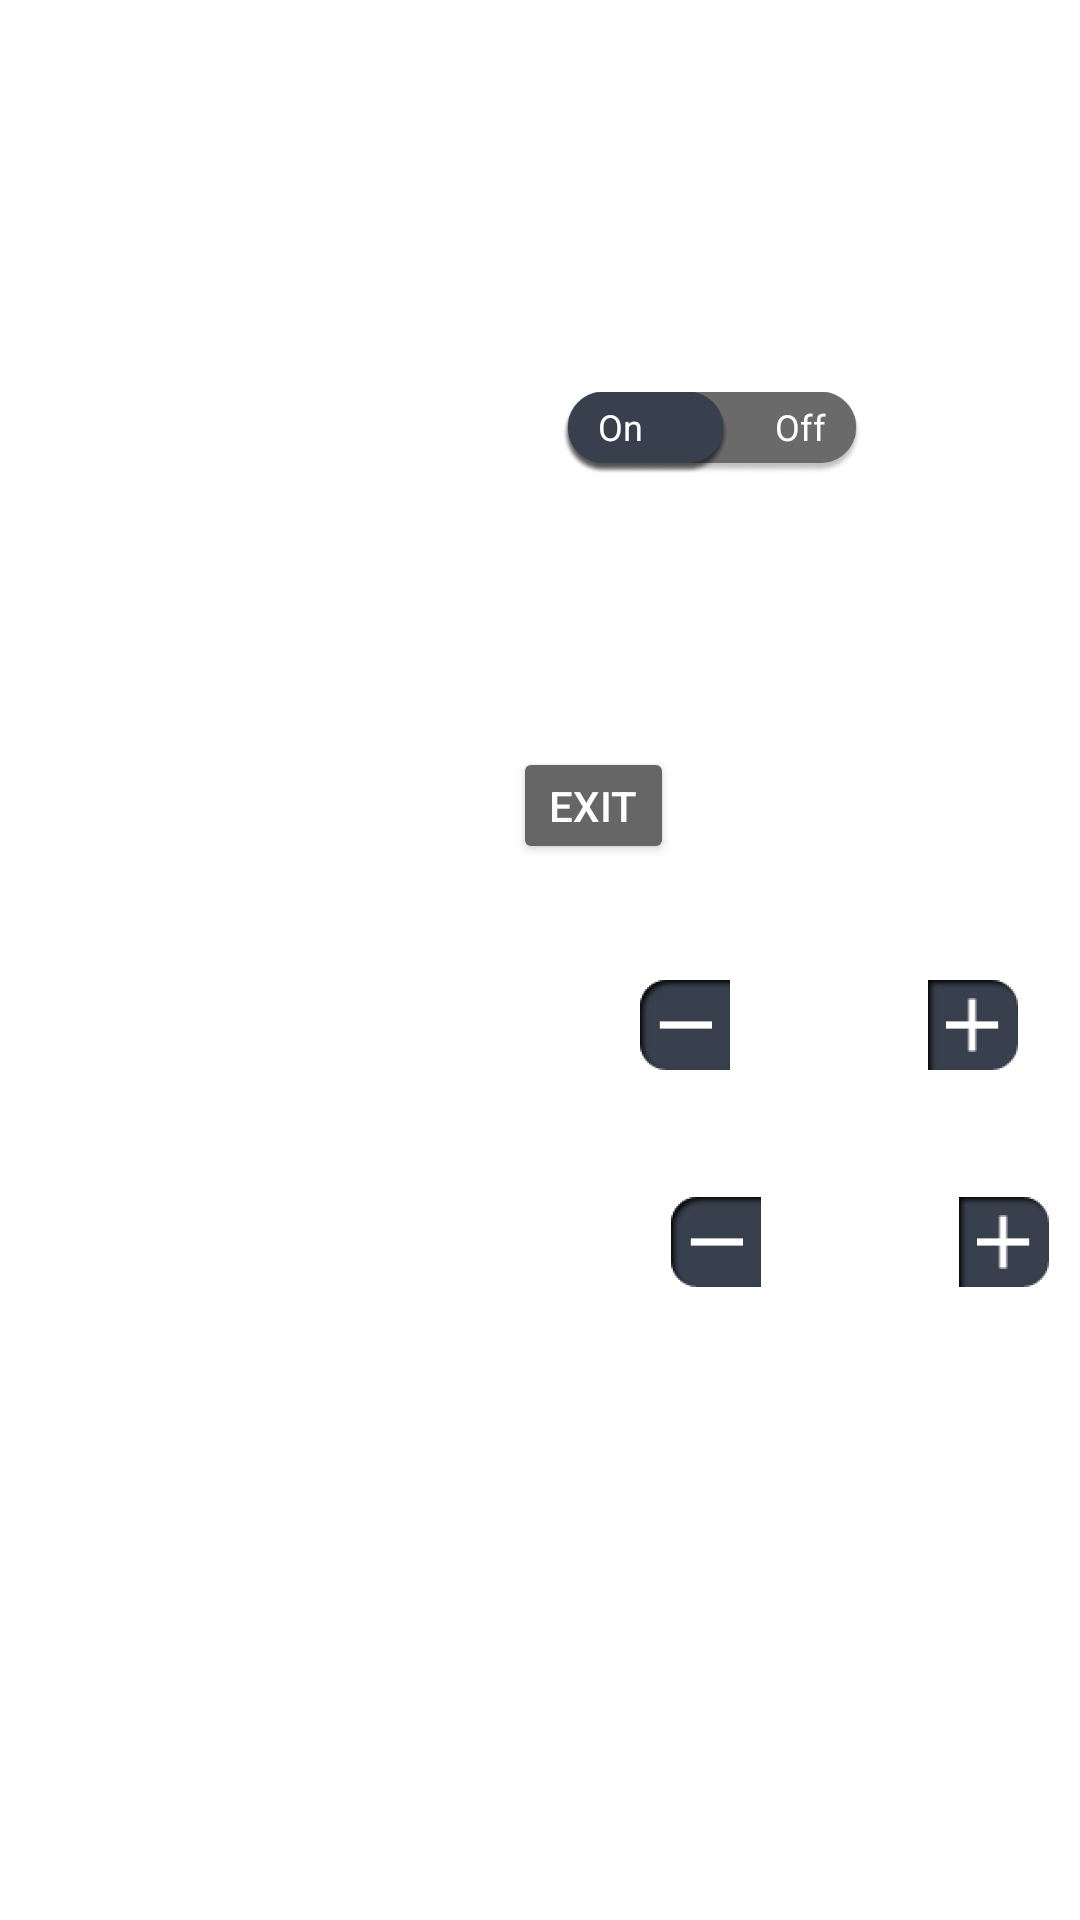

Icon bounding boxes for this 1080x1920 phone screenshot, format (left=x1, top=y1, right=x2, bottom=y2):
plus: (left=928, top=980, right=1018, bottom=1070), (left=959, top=1197, right=1049, bottom=1287)
